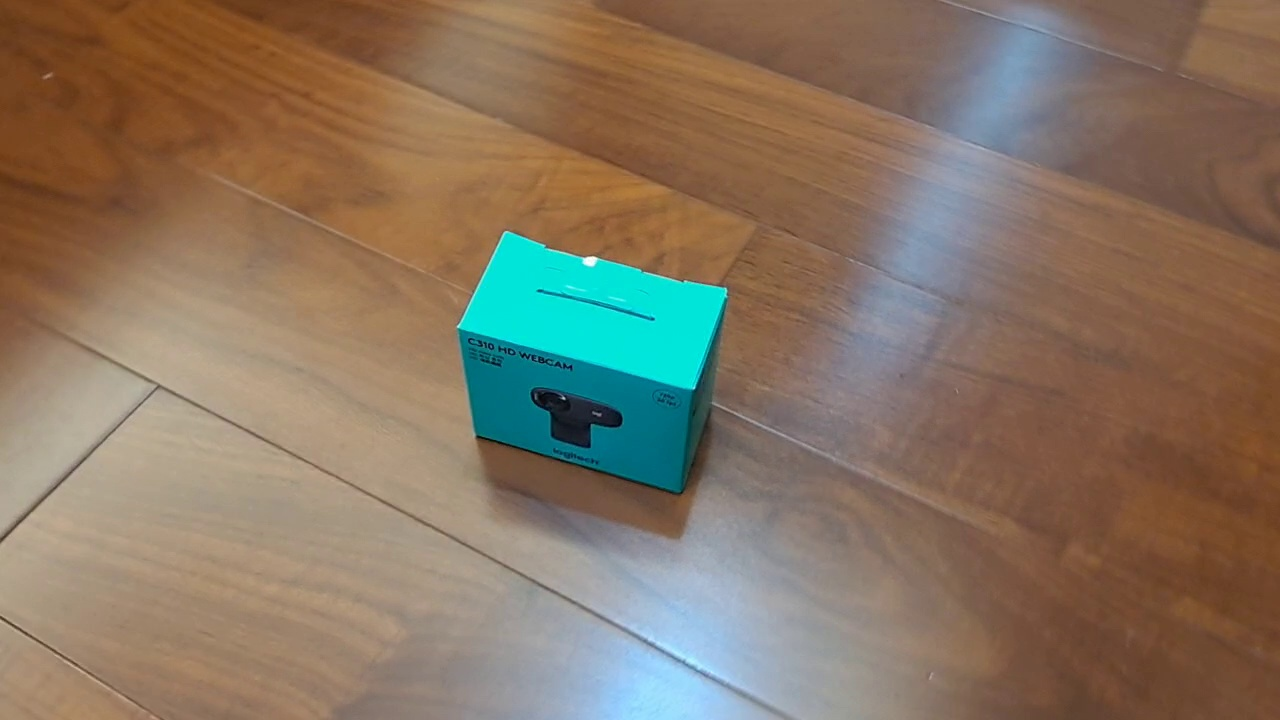webcam: (456, 230, 730, 496)
